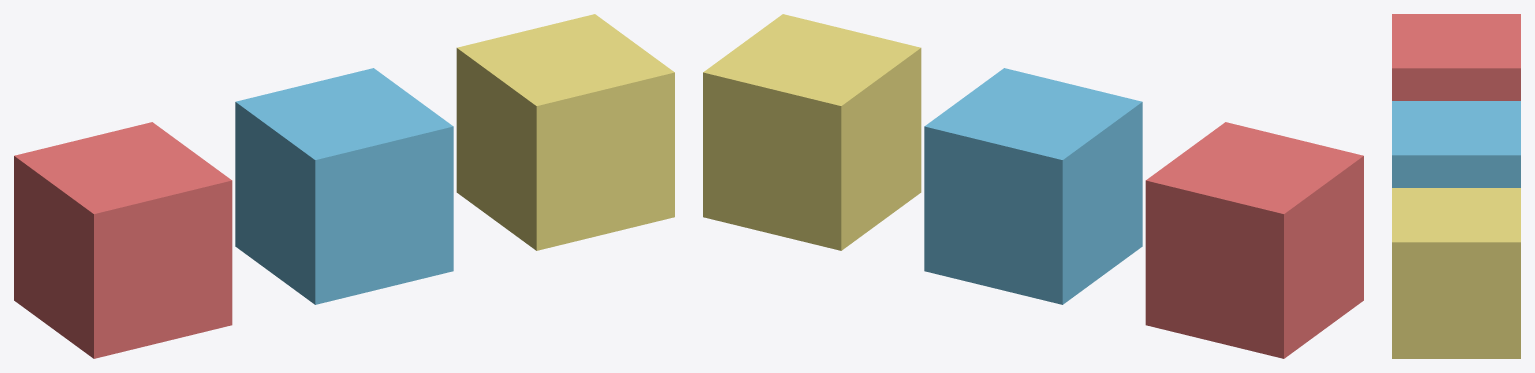
Rendered from drum-pads.gltf.
The picture shows the model from 3 angles, left to right: view 1: azimuth 30°, elevation 25°; view 2: azimuth 150°, elevation 25°; view 3: azimuth 270°, elevation 25°; orthographic projection. The views are drawn at different scales.
Visible parts, largest first — view 1: SnarePad, KickPad, HihatPad; view 2: SnarePad, KickPad, HihatPad; view 3: HihatPad, KickPad, SnarePad.
Part boxes in pixels (x1,y1,x2,y2): SnarePad: [235, 68, 453, 304]; KickPad: [14, 122, 232, 358]; HihatPad: [456, 14, 674, 250]; SnarePad: [924, 68, 1142, 304]; KickPad: [1145, 122, 1363, 358]; HihatPad: [703, 14, 921, 250]; HihatPad: [1392, 188, 1520, 358]; KickPad: [1392, 14, 1520, 100]; SnarePad: [1392, 101, 1520, 187].
Bounding box in the file's own units: 4.2 × 1 × 1.
